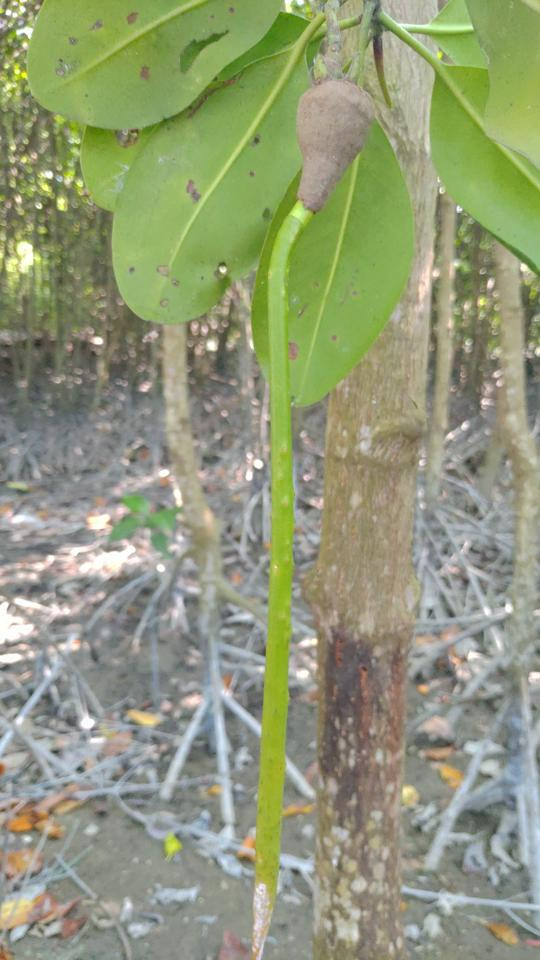setengah matang: (228, 52, 402, 951)
